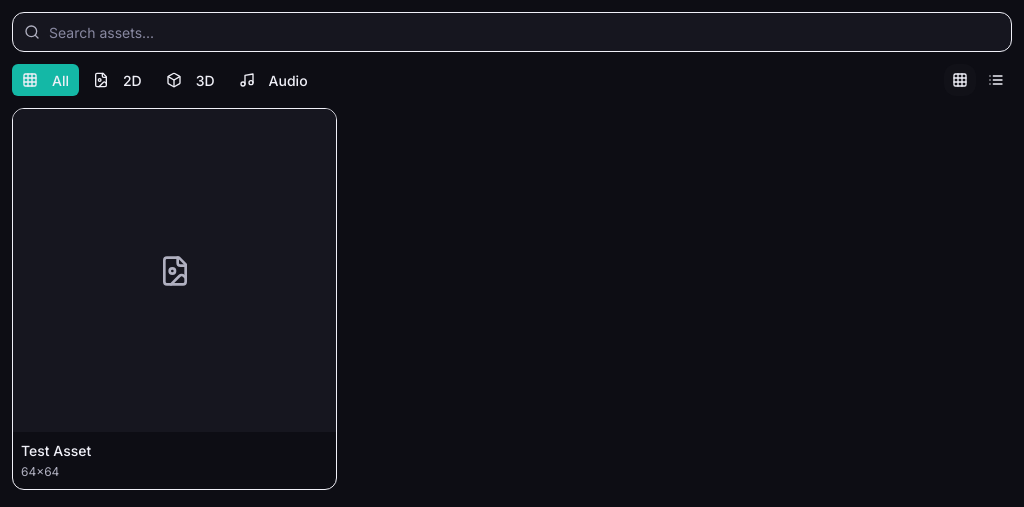
AssetGallery › shows no matching assets message when filtered to empty
Type "nonexistent" into the field with placeholder "Search assets..." at [512, 32], box [12,12,1012,52]
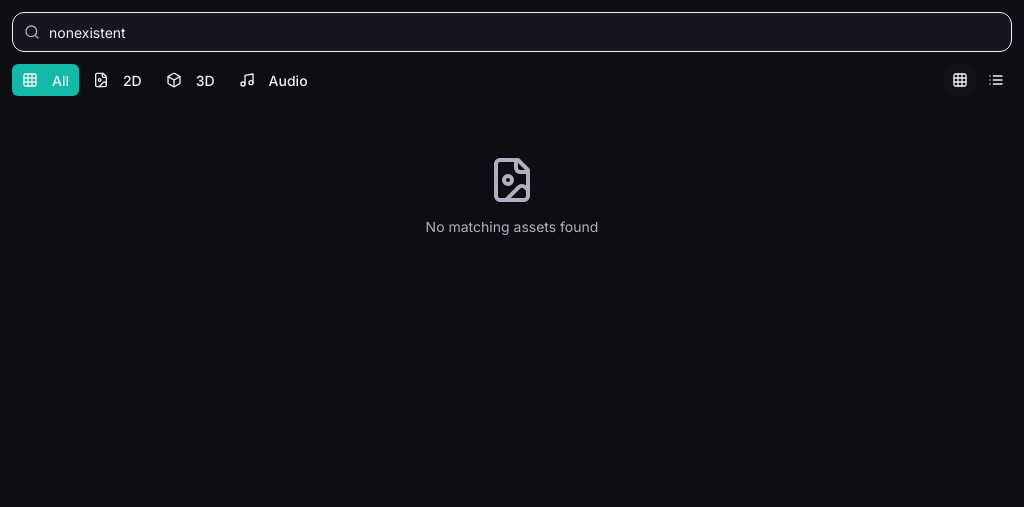
Now the text "No matching assets found" is shown, box [426,216,598,237]
